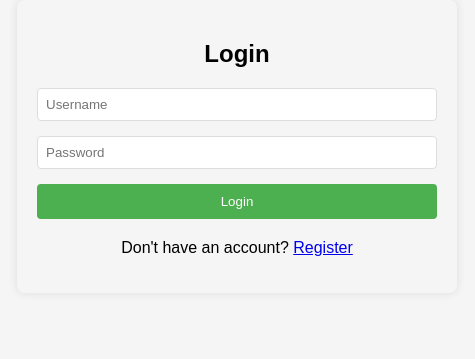
Test: Login Page › should display error message on login failure
Type "wronguser" into the field with placeholder "Username" at (237,104), box [37,88,437,121]
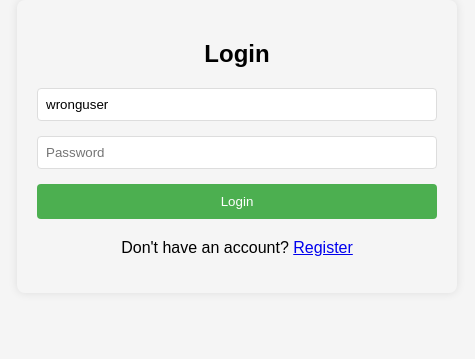
Type "wrongpass" into the password field with placeholder "Password" at (237,152), box [37,136,437,169]
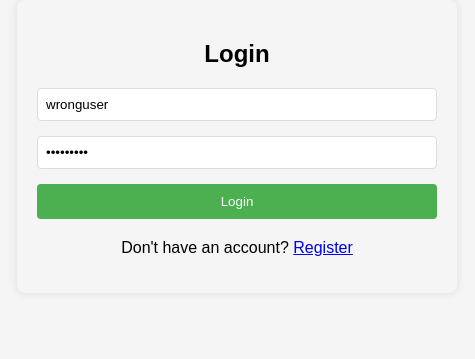
Click the button "Login" at (237,201), box [37,184,437,219]
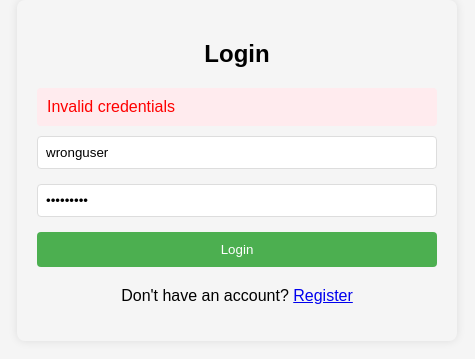
Now the text "Invalid credentials" is shown, box [37,88,437,126]
